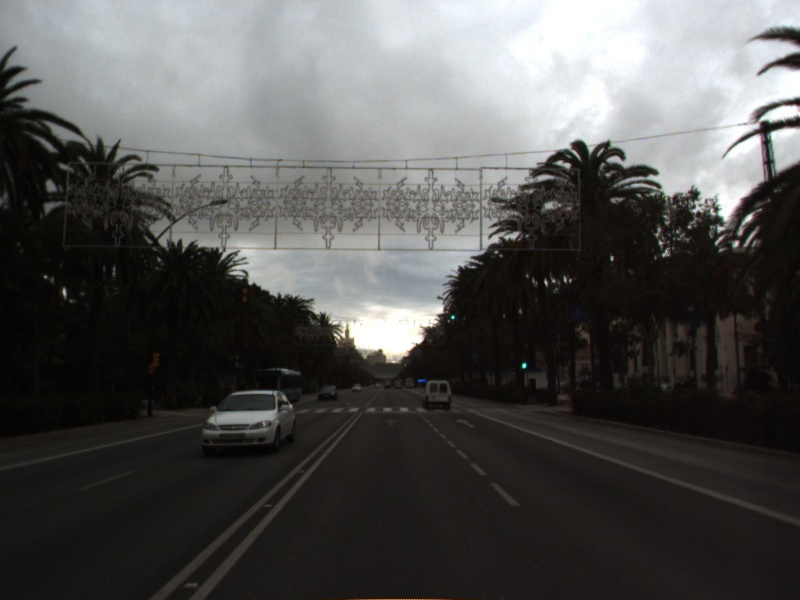STRAIGHT: (453, 416, 477, 430), (382, 416, 401, 430)
